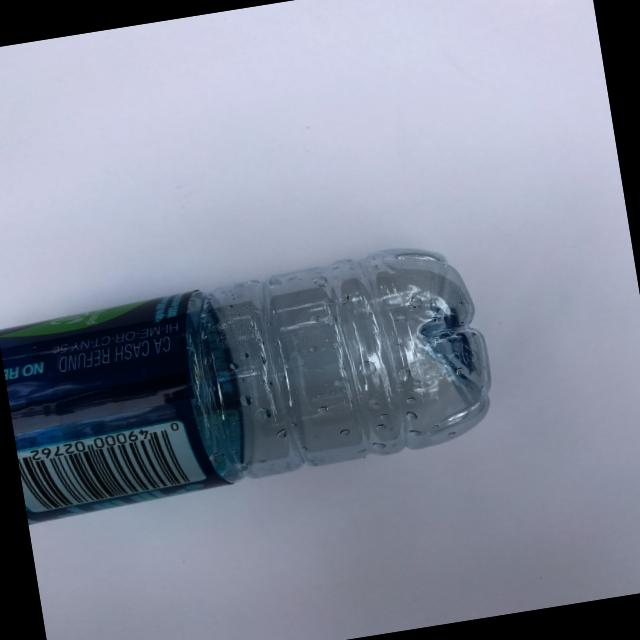Plastic: (0, 176, 574, 543)
